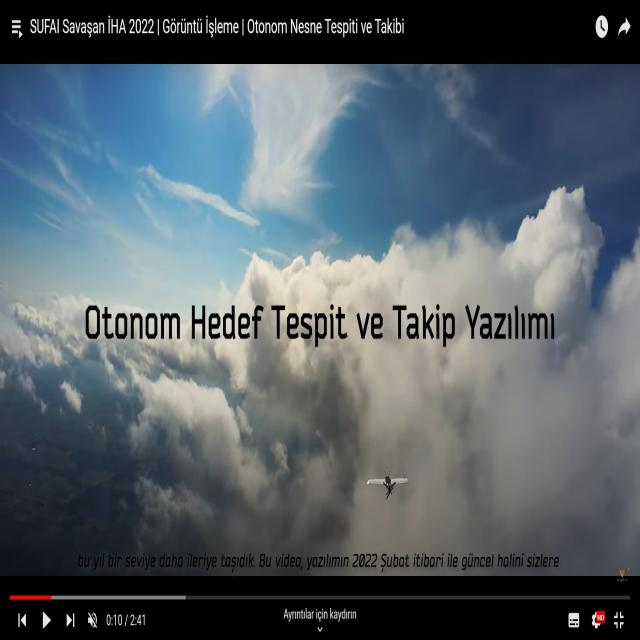iha: (365, 469, 410, 502)
